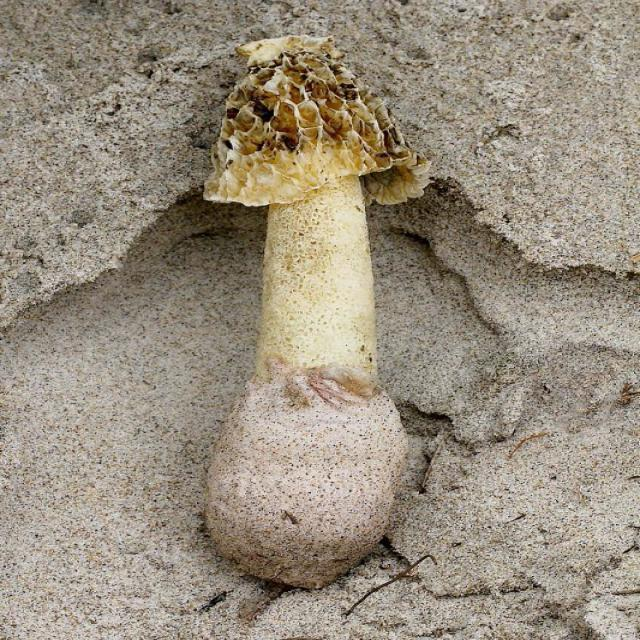Dictyophora indusiate: (201, 39, 441, 582)
